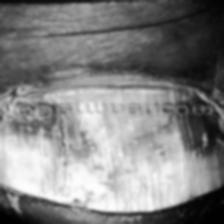Toxin: (0, 82, 224, 216)
